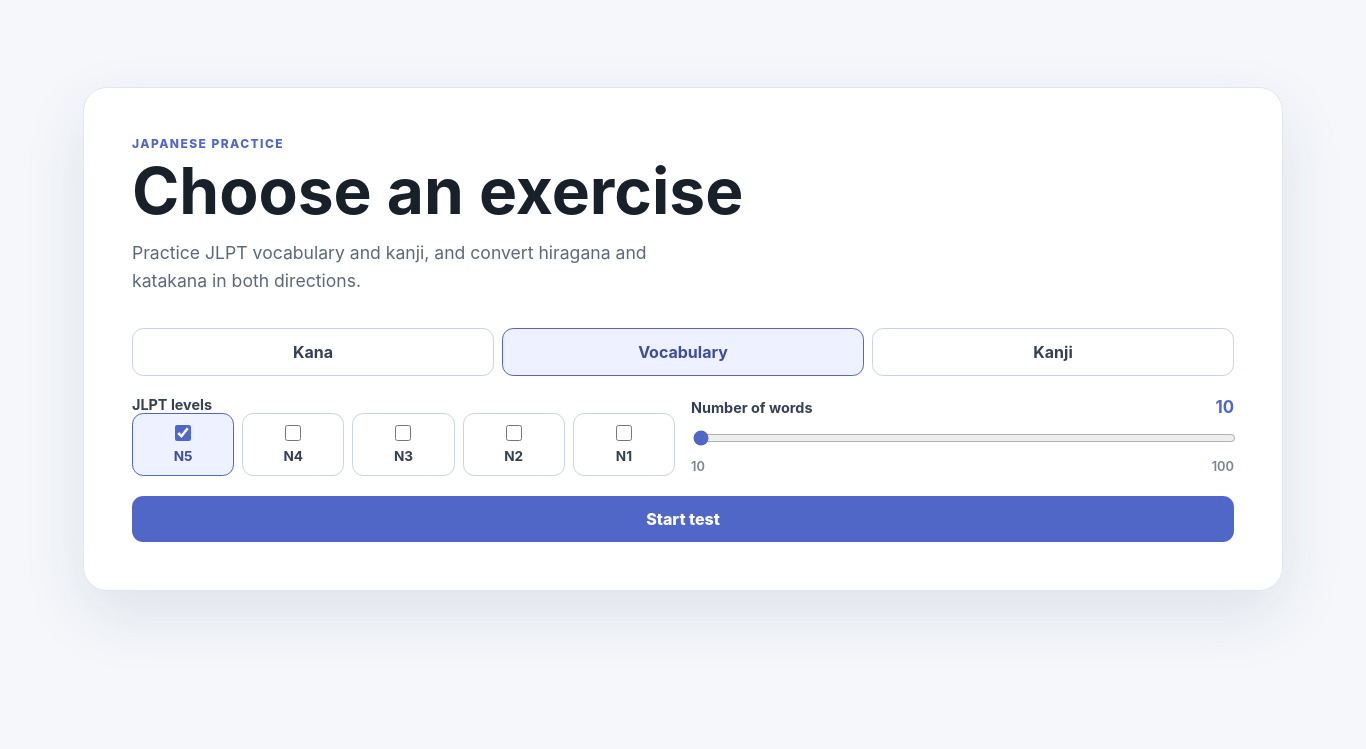
it: HomeView › explains the conversion exercise and how kana selections work
The width and height of the screenshot is (1366, 749).
Click the button with class "exercise-tab" showing "Kana" at (313, 352), box [132,328,494,376]
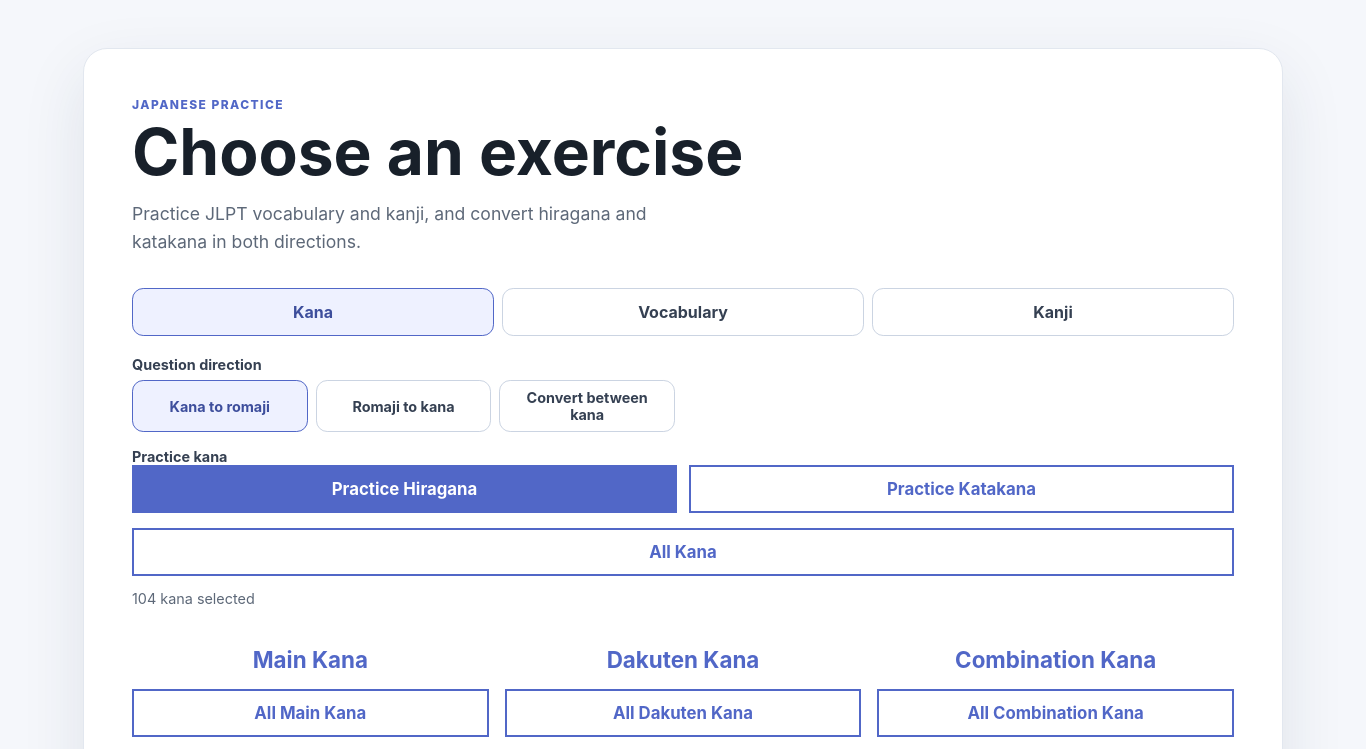
Click the button with class "kana-direction-tab" showing "Convert between kana" at (587, 406), box [499,380,675,432]
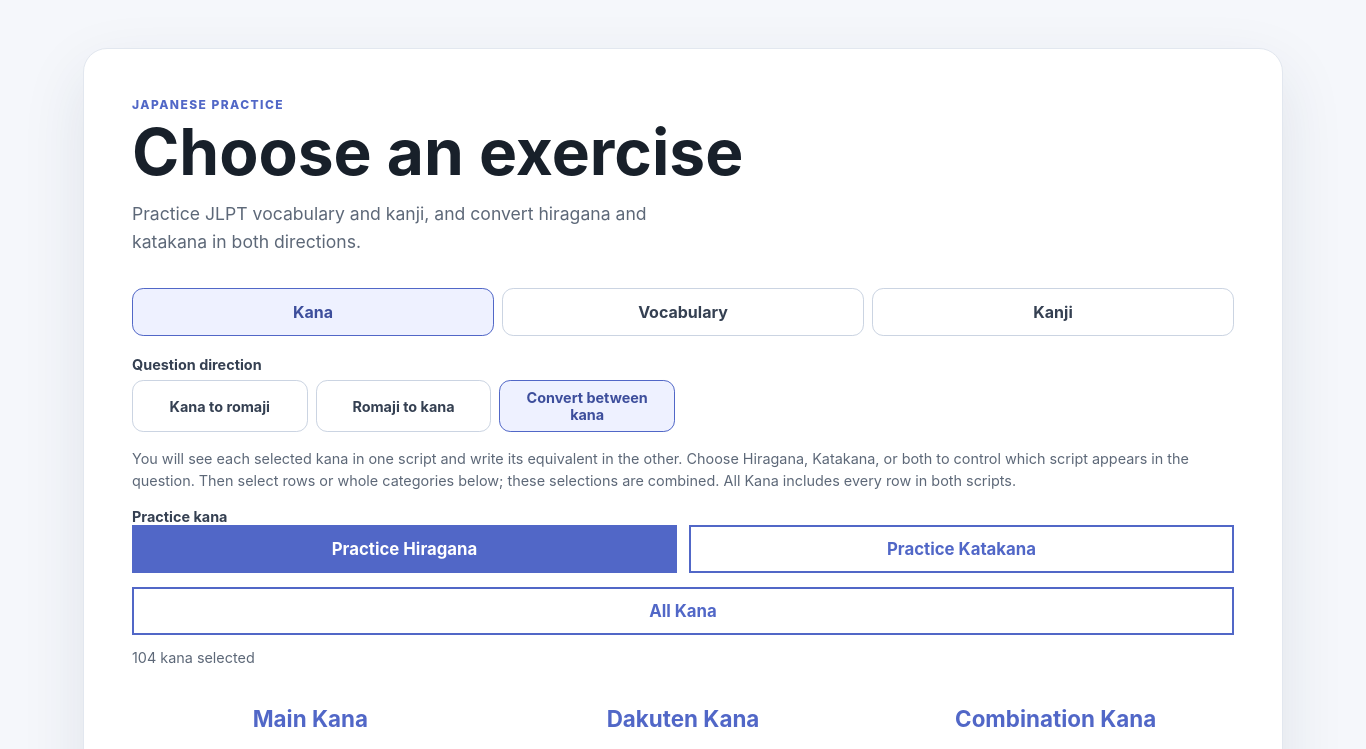
Expected: the button with class "kana-direction-tab" reads "Convert between kana", [499,380,675,432]
Expected: the text with class "kana-direction-help" shows "write its equivalent in the other", [132,450,1189,489]
Expected: the text with class "kana-direction-help" shows "these selections are combined", [132,450,1189,489]
